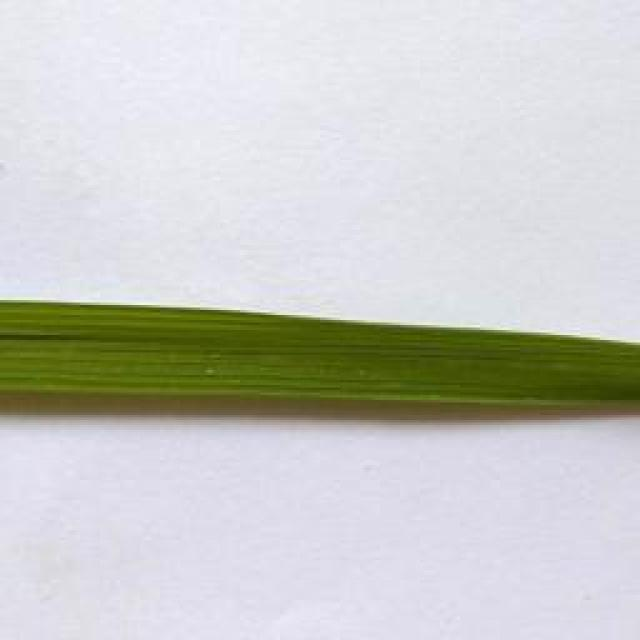Healthy-Plant: (0, 290, 640, 430)
